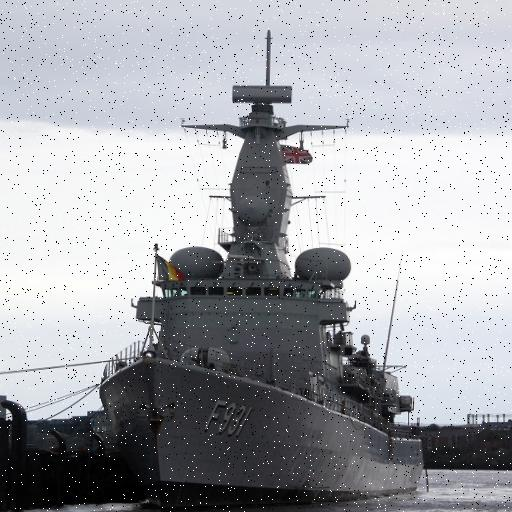Fragata: (91, 23, 428, 510)
